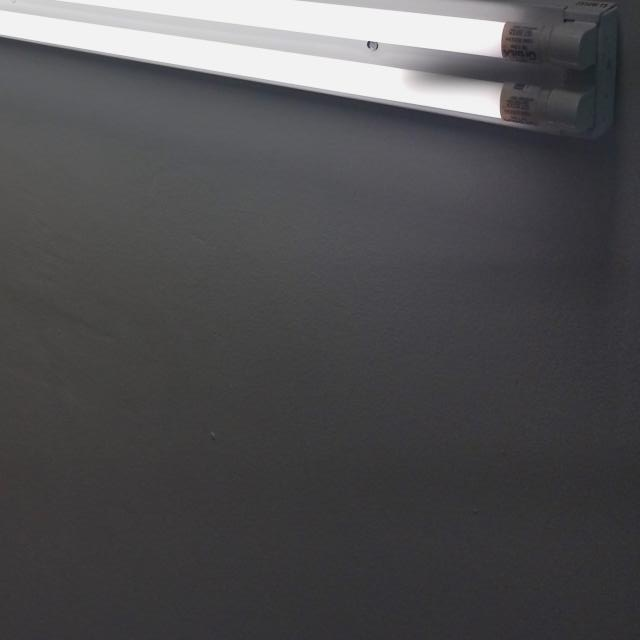fluorescent tube: (0, 0, 625, 230)
